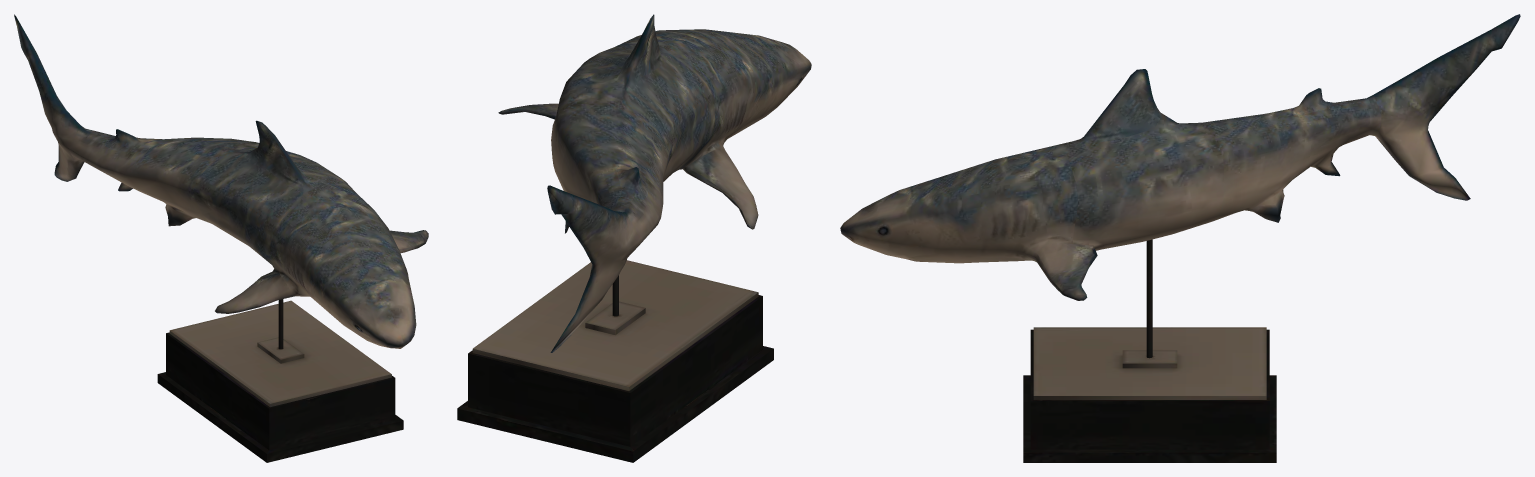
Rendered from statue_shark.glb.
The picture shows the model from 3 angles, left to right: view 1: azimuth 30°, elevation 25°; view 2: azimuth 150°, elevation 25°; view 3: azimuth 270°, elevation 25°; orthographic projection. The views are drawn at different scales.
Visible parts, largest first — view 1: statue_shark; view 2: statue_shark; view 3: statue_shark.
Part boxes in pixels (x1=…): statue_shark: x1=14, y1=14, x2=428, y2=462; statue_shark: x1=457, y1=14, x2=811, y2=462; statue_shark: x1=840, y1=14, x2=1520, y2=462.
Bounding box in the file's own units: 0.3518 × 0.4311 × 0.7598.
Materials: 1 (1 with a texture image).
